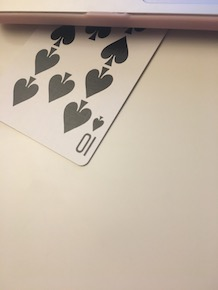TenOfSpades: (1, 10, 174, 169)
